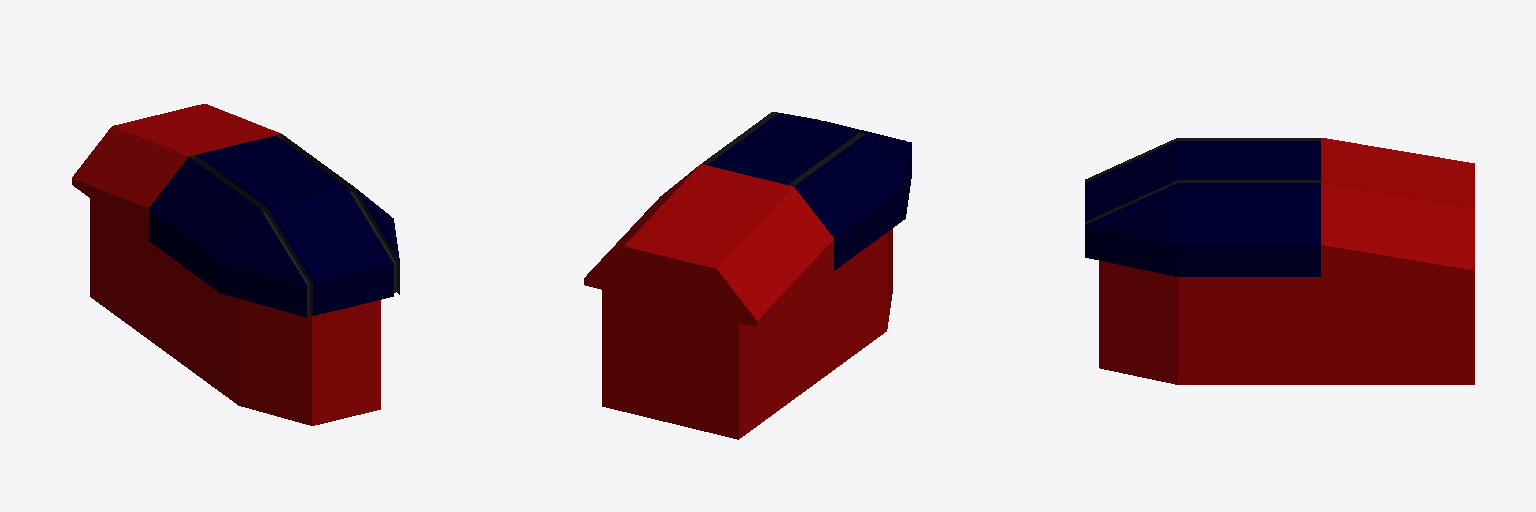
The model's file is Inside_Body_Canopy.obj.
3 views of the same model, side by side, from view 1: azimuth 30°, elevation 25°; view 2: azimuth 150°, elevation 25°; view 3: azimuth 270°, elevation 25° (orthographic).
Parts seen in each view (by area): view 1: Inside_Canopy_Cube.000; view 2: Inside_Canopy_Cube.000; view 3: Inside_Canopy_Cube.000.
Boxes of the visible parts, x1,y1,x2,y2 form: Inside_Canopy_Cube.000: [72, 104, 399, 425]; Inside_Canopy_Cube.000: [584, 112, 911, 439]; Inside_Canopy_Cube.000: [1085, 138, 1474, 384].
Size of the model in its own units: 1.4 by 1.48 by 2.73.